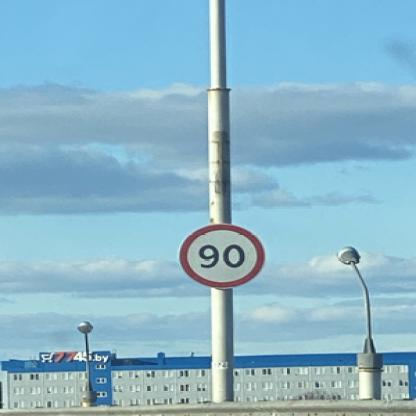Speed Limit 90: (180, 224, 266, 288)
